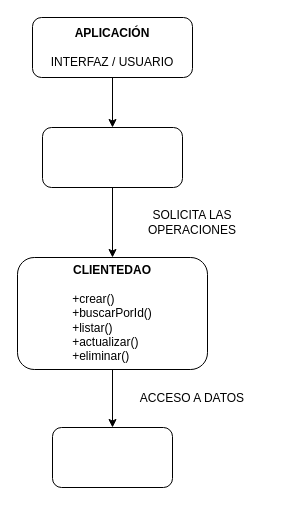
The diagram is 290 pixels wide and 505 high, and some of its shapes have lost their labels. Each missing label, with the centre of its shape:
"BASE DE DATOS" belongs at (112,457).
"LÓGICA DE NEGOCIO ClienteService" belongs at (112,157).
